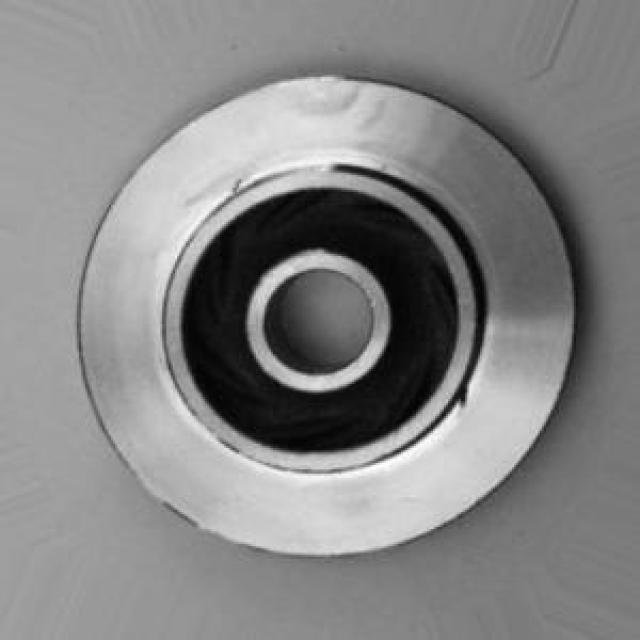Defect: (447, 386, 480, 415)
